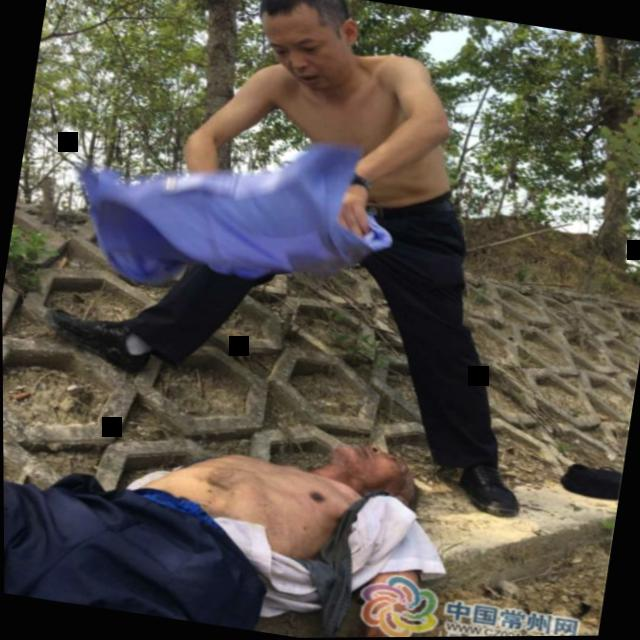Fall-Detected: (2, 359, 459, 640)
